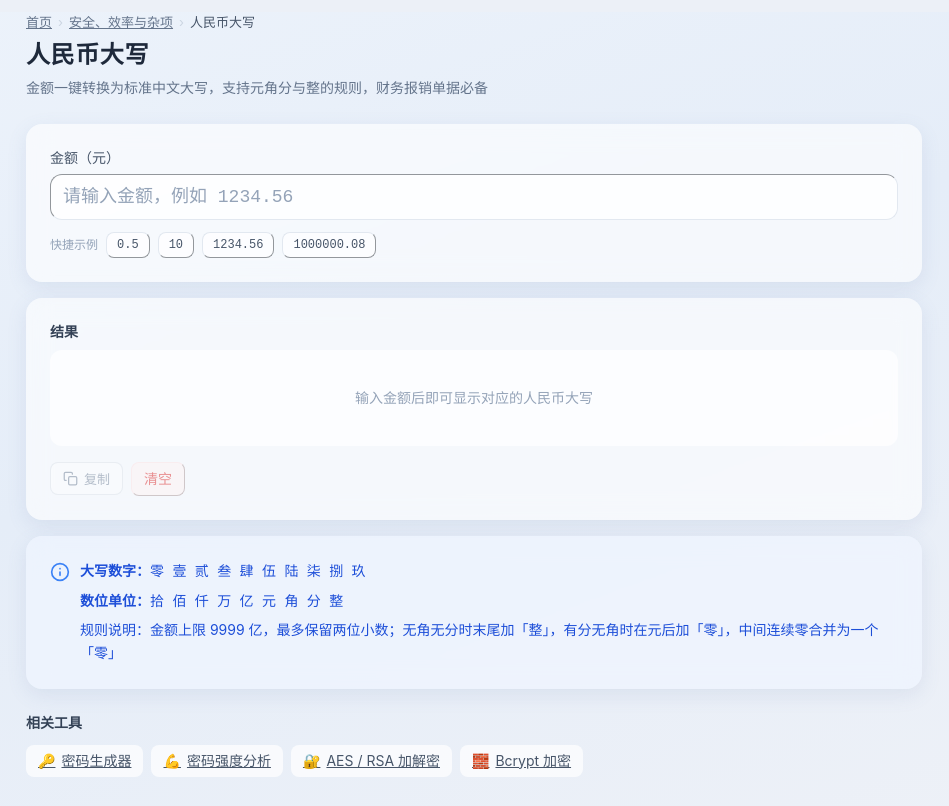
Test case: RmbUppercase 组件测试 › 零元与整的规则
This screenshot has width=949, height=806.
Type "0" into the field labelled "金额（元）" at coordinates (474, 197), box [50,174,898,220]
Wait 300 ms
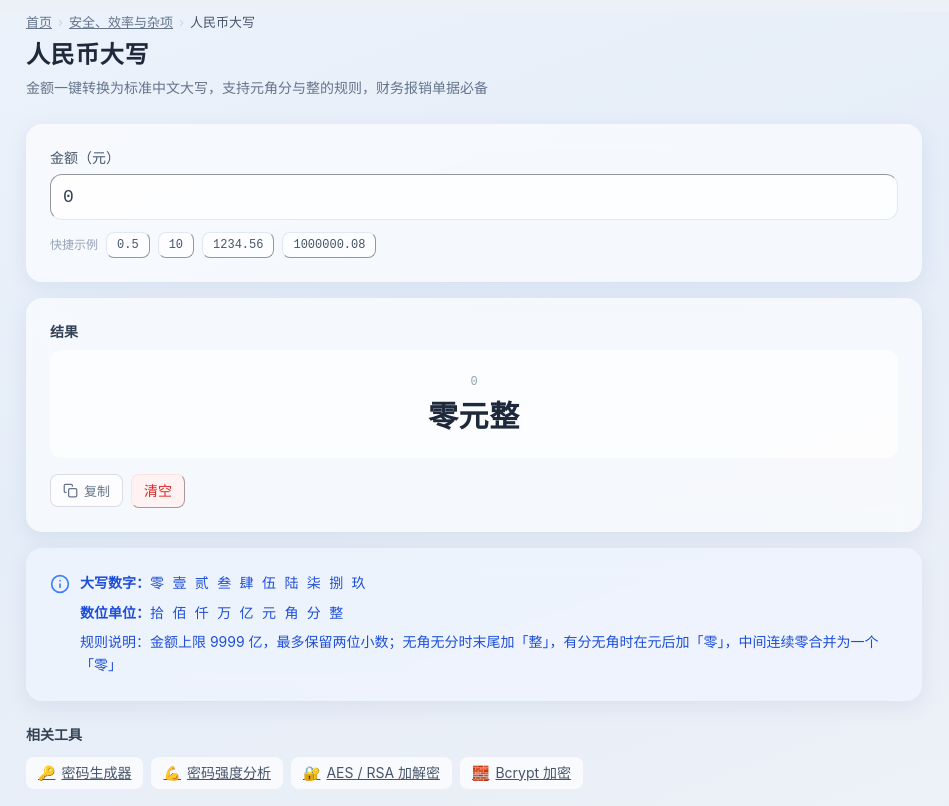
Expected: the text "零元整" is shown, [428,398,520,434]
Replace the text in the field labelled "金额（元）" with "10" at coordinates (474, 197), box [50,174,898,220]
Wait 300 ms
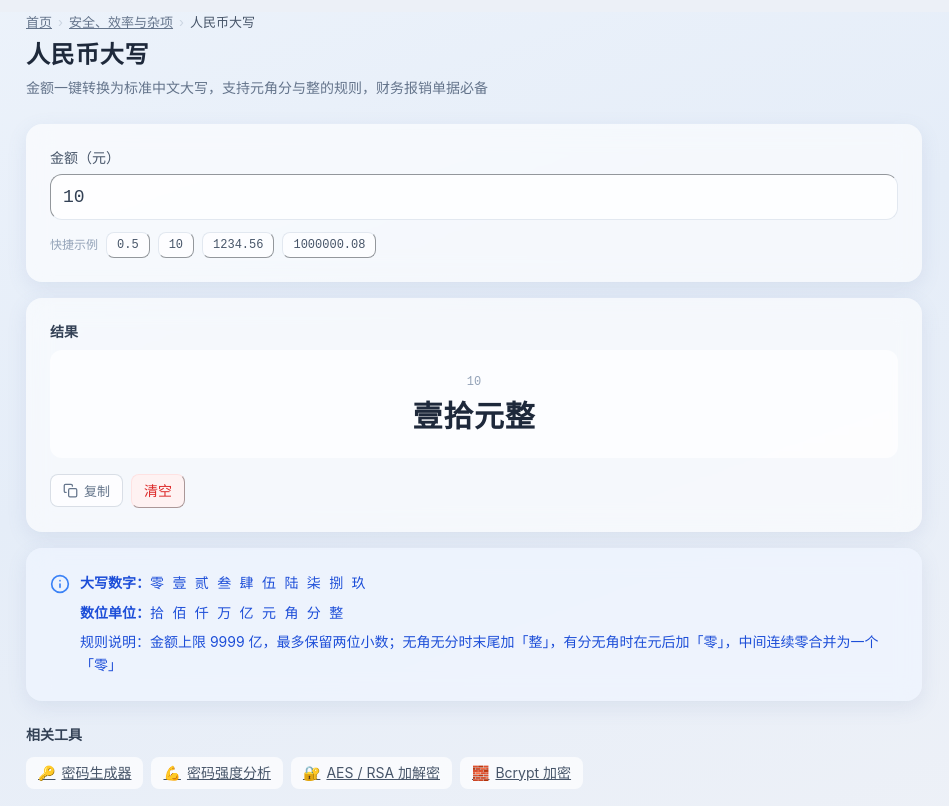
Expected: the text "壹拾元整" is shown, [412,398,536,434]
